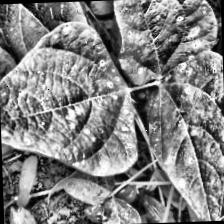Bean Rust: (0, 24, 143, 181), (144, 59, 224, 223), (103, 0, 220, 88)
